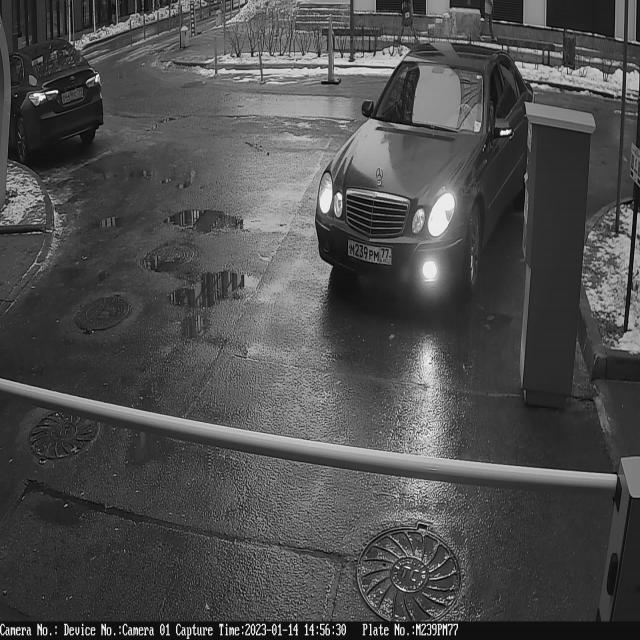car-plate-numbers: (347, 235, 398, 272)
